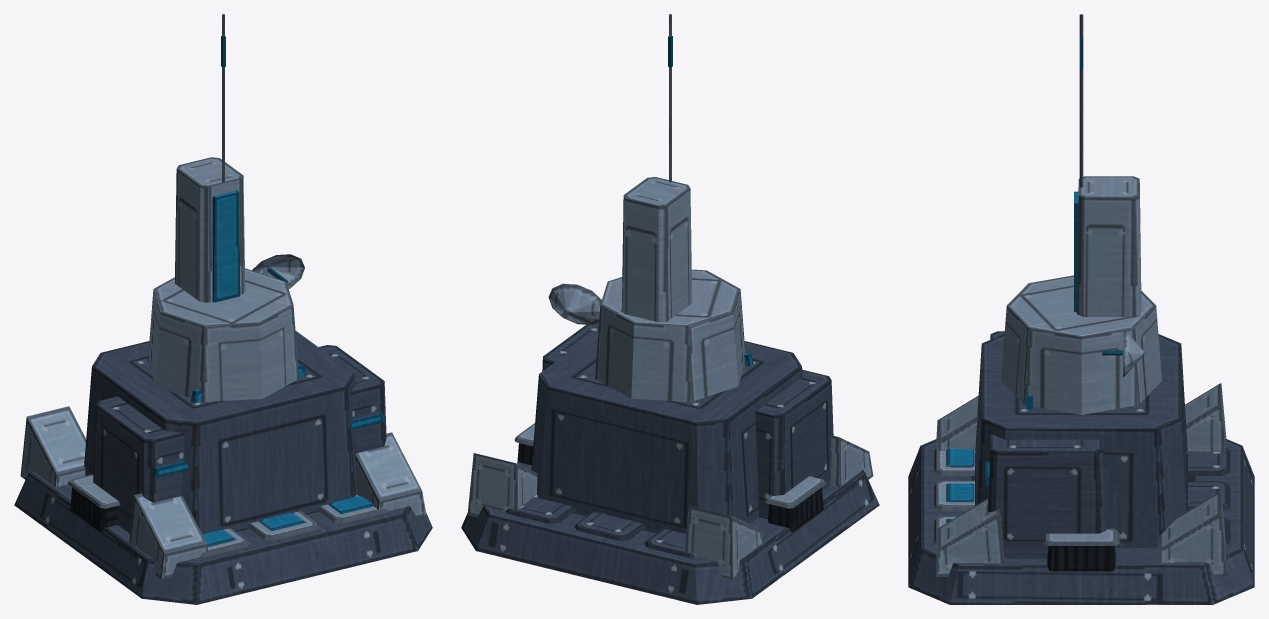
Rendered from building-outpost.fbx.
The picture shows the model from 3 angles, left to right: view 1: azimuth 30°, elevation 25°; view 2: azimuth 150°, elevation 25°; view 3: azimuth 270°, elevation 25°; orthographic projection. The views are drawn at different scales.
Visible parts, largest first — view 1: building-outpost; view 2: building-outpost; view 3: building-outpost.
Boxes of the visible parts, box(x1,y1,x2,y2) form: building-outpost: box(14, 14, 432, 604); building-outpost: box(461, 14, 879, 604); building-outpost: box(908, 14, 1254, 604).
Size of the model in its own units: 1456 by 2400 by 1456.
1 material, 1 textured.
